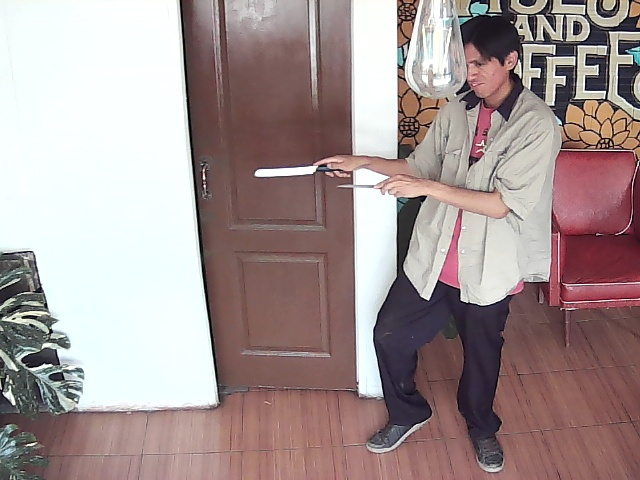cuchillo: (252, 153, 356, 189)
